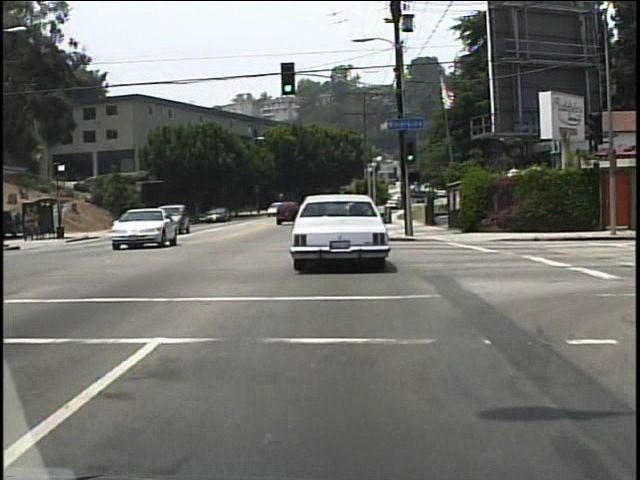person: (144, 209, 153, 228)
